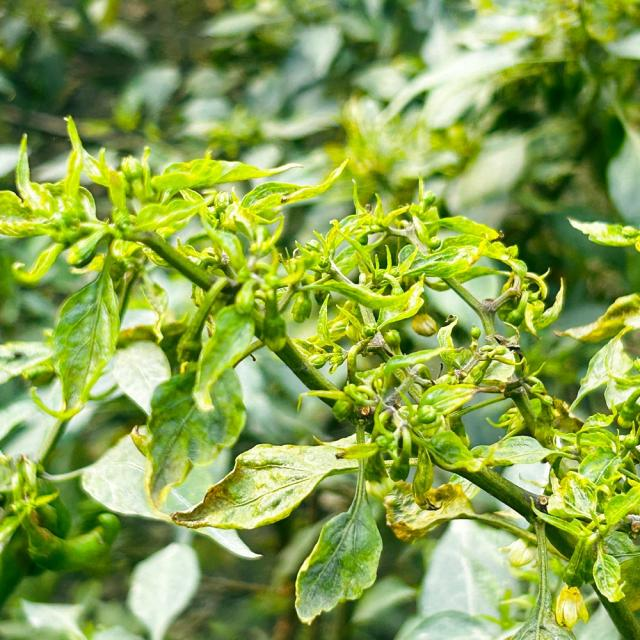Chilli_Leaf_Curl: (1, 113, 638, 636), (168, 432, 376, 532), (293, 454, 383, 626), (566, 216, 638, 251)
